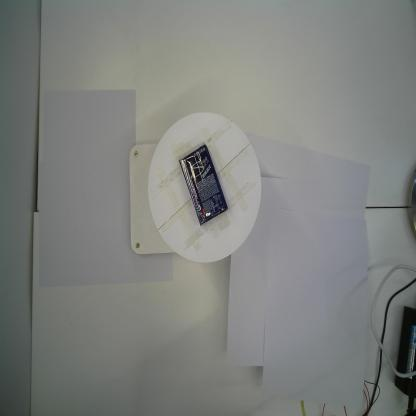Gum: (179, 144, 229, 228)
